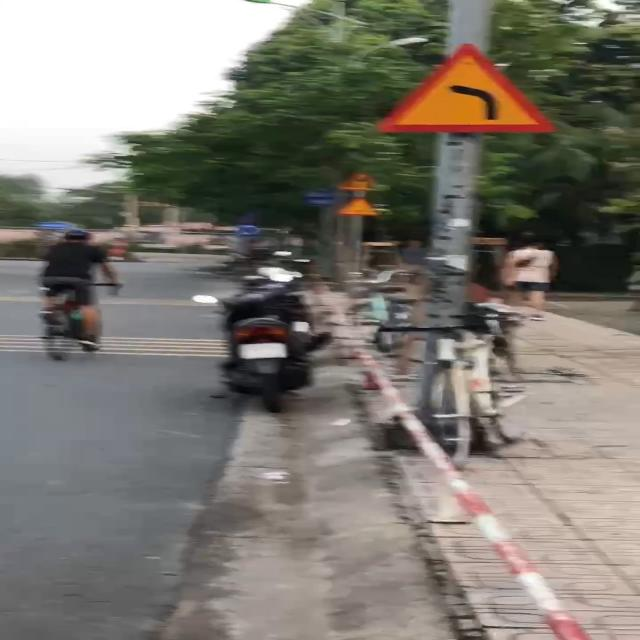Bien bao cho ngoat nguy hiem: (370, 40, 557, 136)
